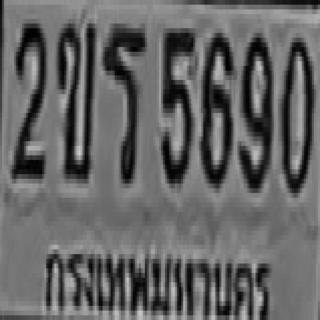A02: (54, 17, 95, 176)
A35: (103, 21, 145, 181)
N00: (280, 33, 312, 188)
N02: (10, 17, 44, 176)
N05: (159, 23, 193, 184)
N06: (199, 28, 231, 184)
N09: (237, 28, 272, 188)
P04: (42, 241, 275, 320)
